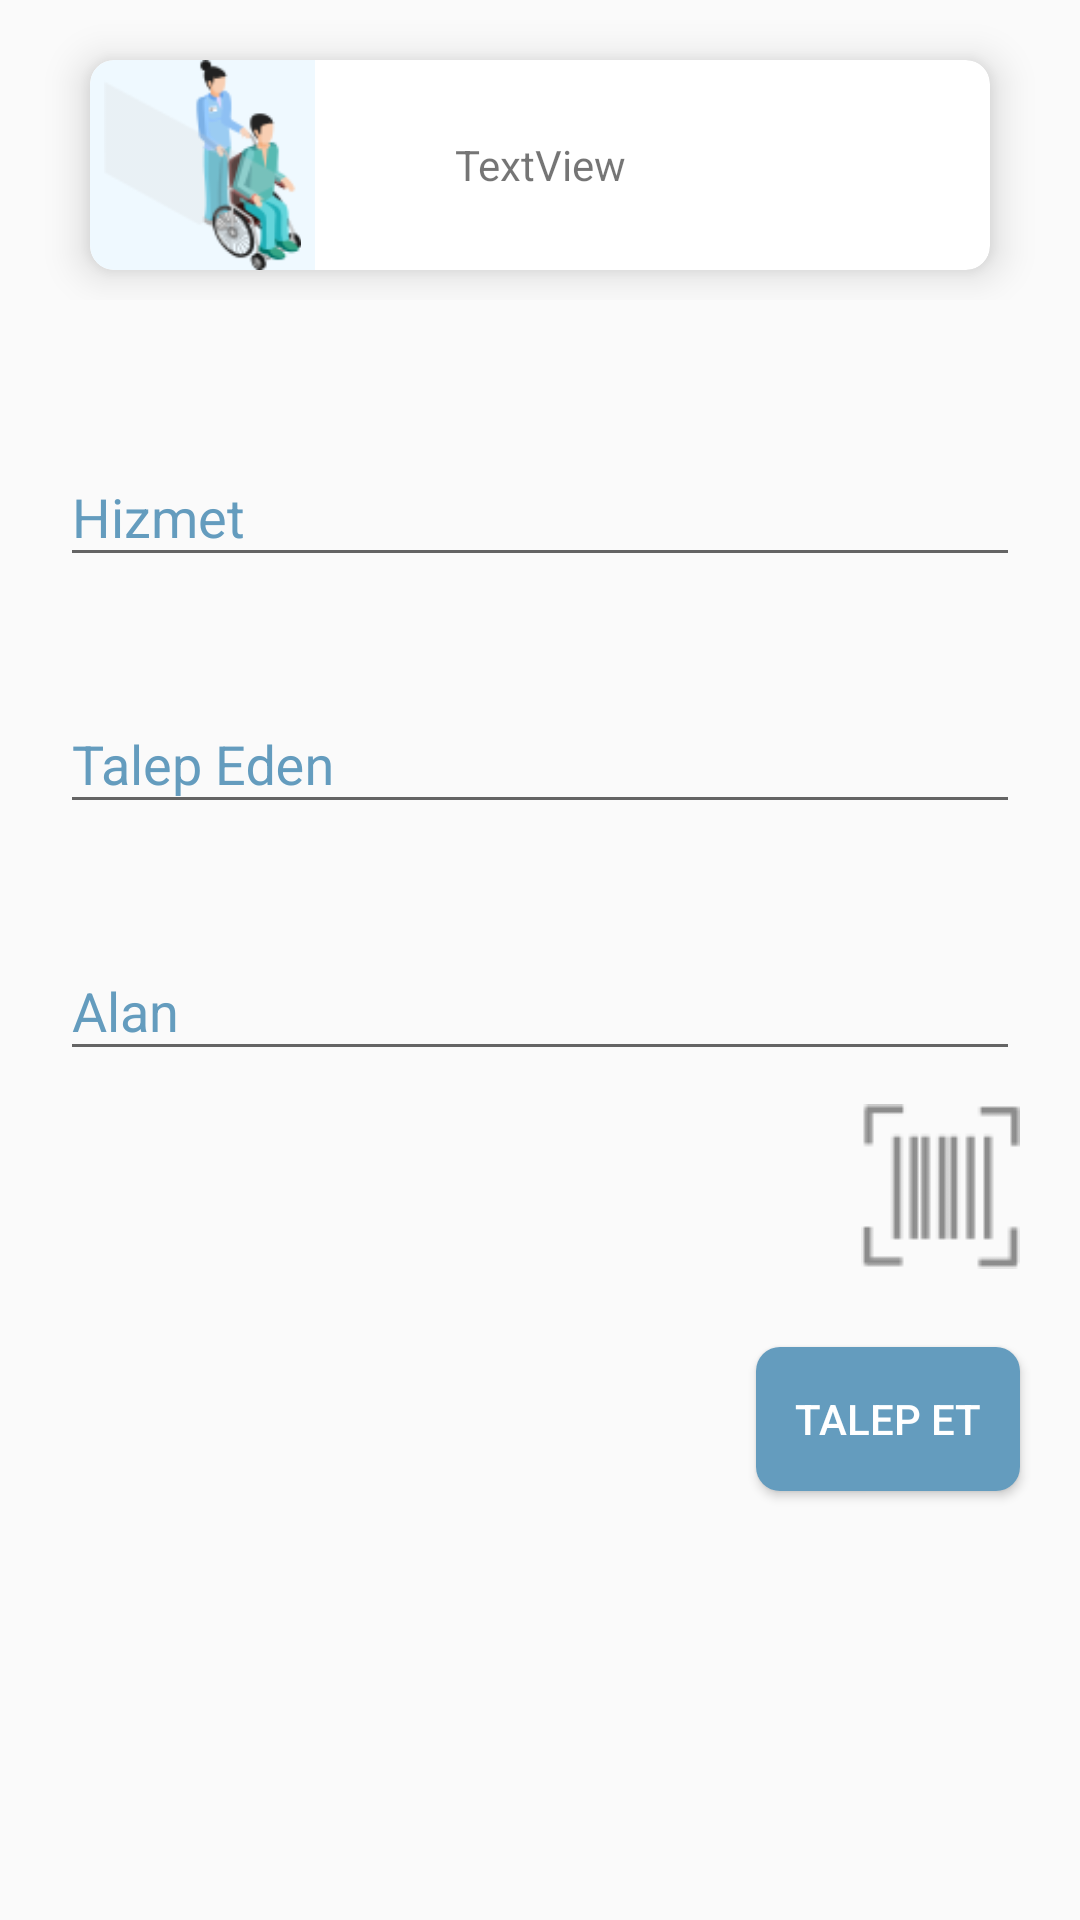

Where icons sit on this 1080*1920 app screen, as (x1, y1, x2, y2):
hastavector: (90, 60, 315, 270)
qrkod: (863, 1104, 1020, 1267)
